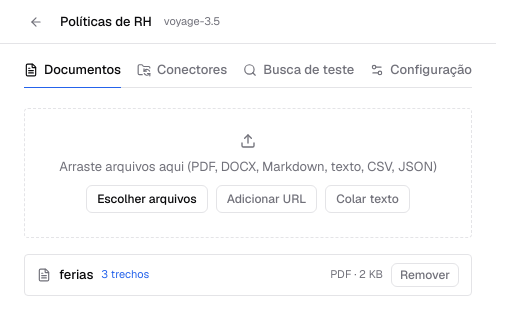
Scenario: KnowledgeBasePage › busca de teste mostra trecho, documento e relevância
The image size is (513, 313).
Click the tab "Busca de teste" at (299, 70), box x1=243 y1=52 x2=354 y2=88
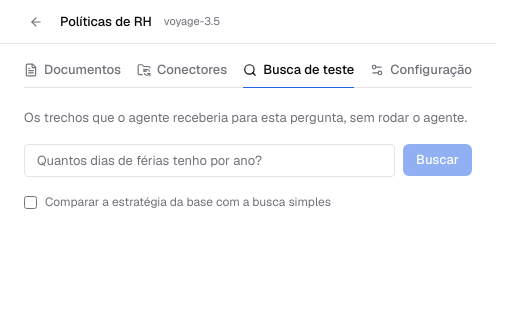
Type "quantos dias de férias" into the field named "Pergunta" at (210, 160), box x1=24 y1=144 x2=395 y2=177
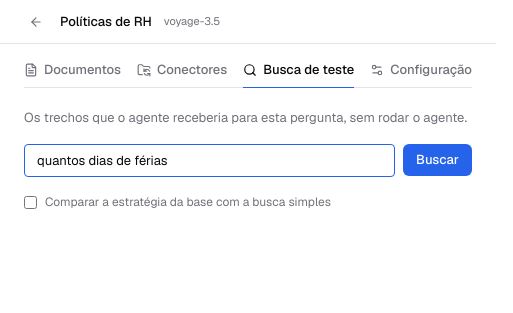
Click the button "Buscar" at (438, 160), box x1=403 y1=144 x2=472 y2=176
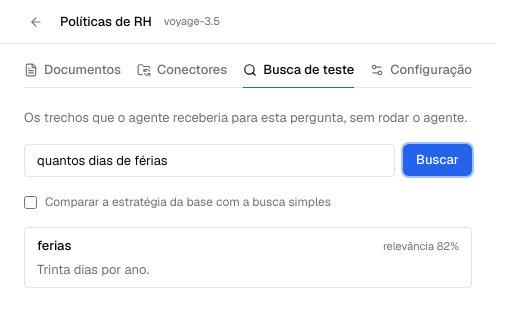
Now the text "Trinta dias por ano." is shown, box x1=37 y1=260 x2=149 y2=278
Now the text "relevância 82%" is shown, box x1=383 y1=238 x2=459 y2=254
